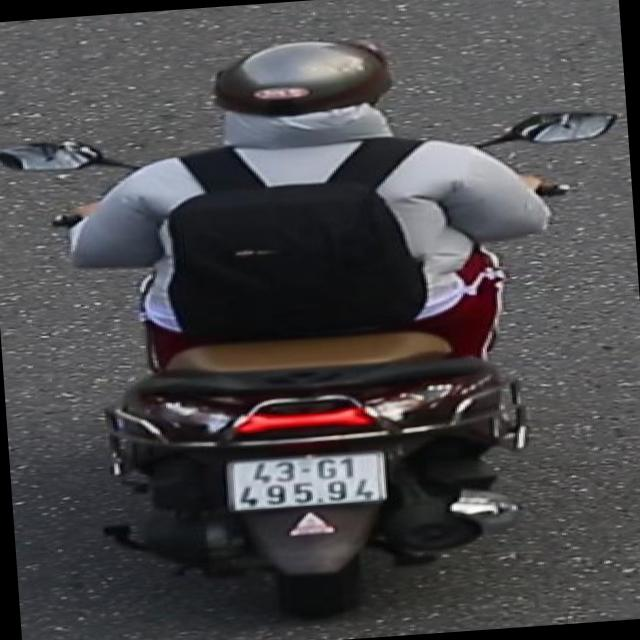LP: (214, 444, 394, 518)
helmet: (192, 27, 408, 156)
